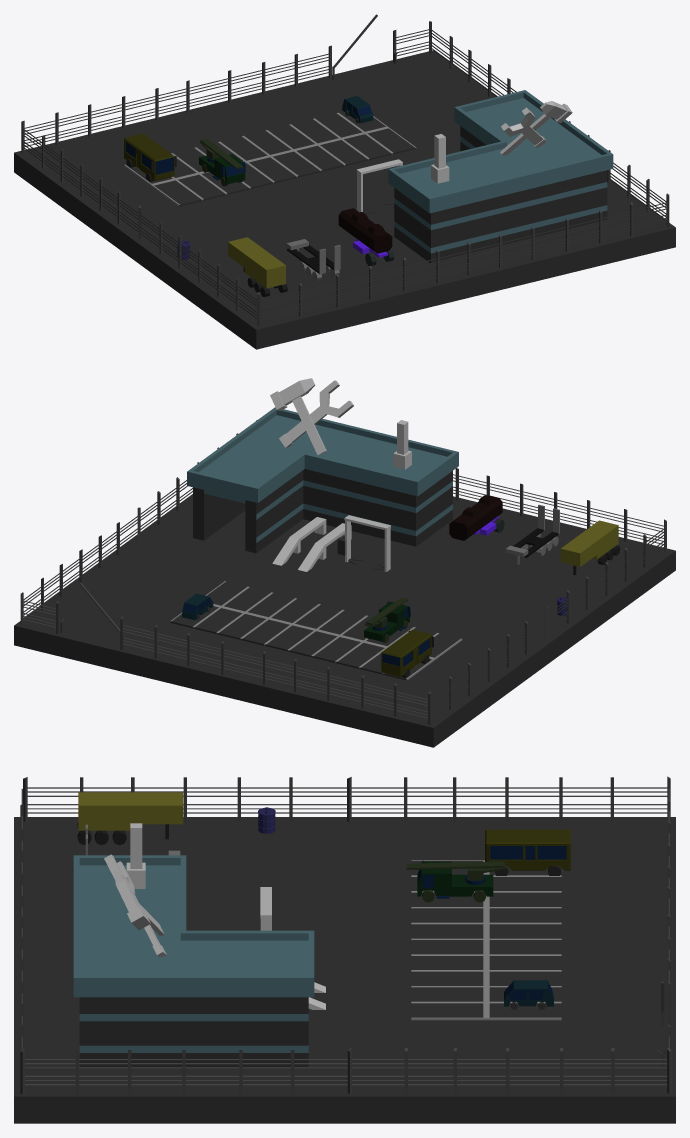
Rendered from RepairStation.FBX.
3 views of the same model, one above another, from view 1: azimuth 30°, elevation 25°; view 2: azimuth 150°, elevation 25°; view 3: azimuth 270°, elevation 25° (orthographic). The views are drawn at different scales.
Visible parts, largest first — view 1: RepairStation; view 2: RepairStation; view 3: RepairStation.
Boxes of the visible parts, x1,y1,x2,y2 form: RepairStation: [14, 14, 675, 349]; RepairStation: [14, 378, 675, 747]; RepairStation: [14, 776, 675, 1123].
Bounding box in the file's own units: 20000 × 6449 × 20000.
